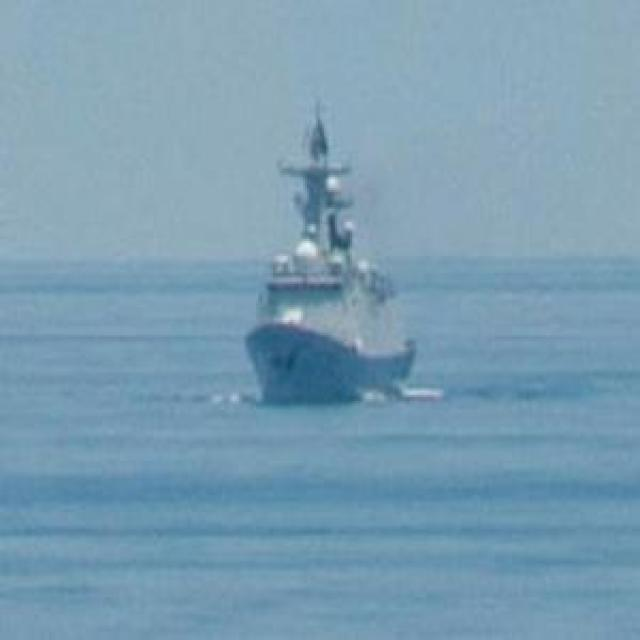navalvessels: (234, 110, 425, 398)
